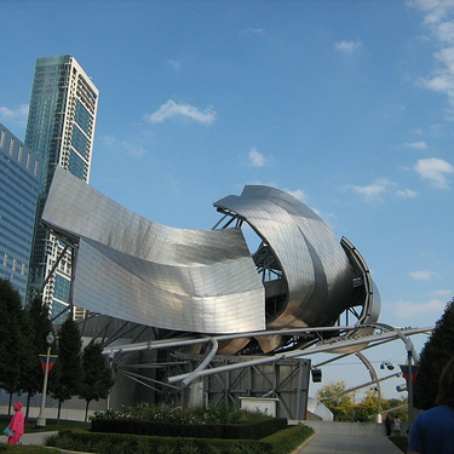building: (83, 181, 373, 417), (35, 45, 109, 345), (1, 138, 45, 354)
sky: (95, 1, 454, 223)
tree: (22, 292, 56, 436), (1, 275, 34, 419), (51, 322, 83, 420), (81, 341, 115, 417)
